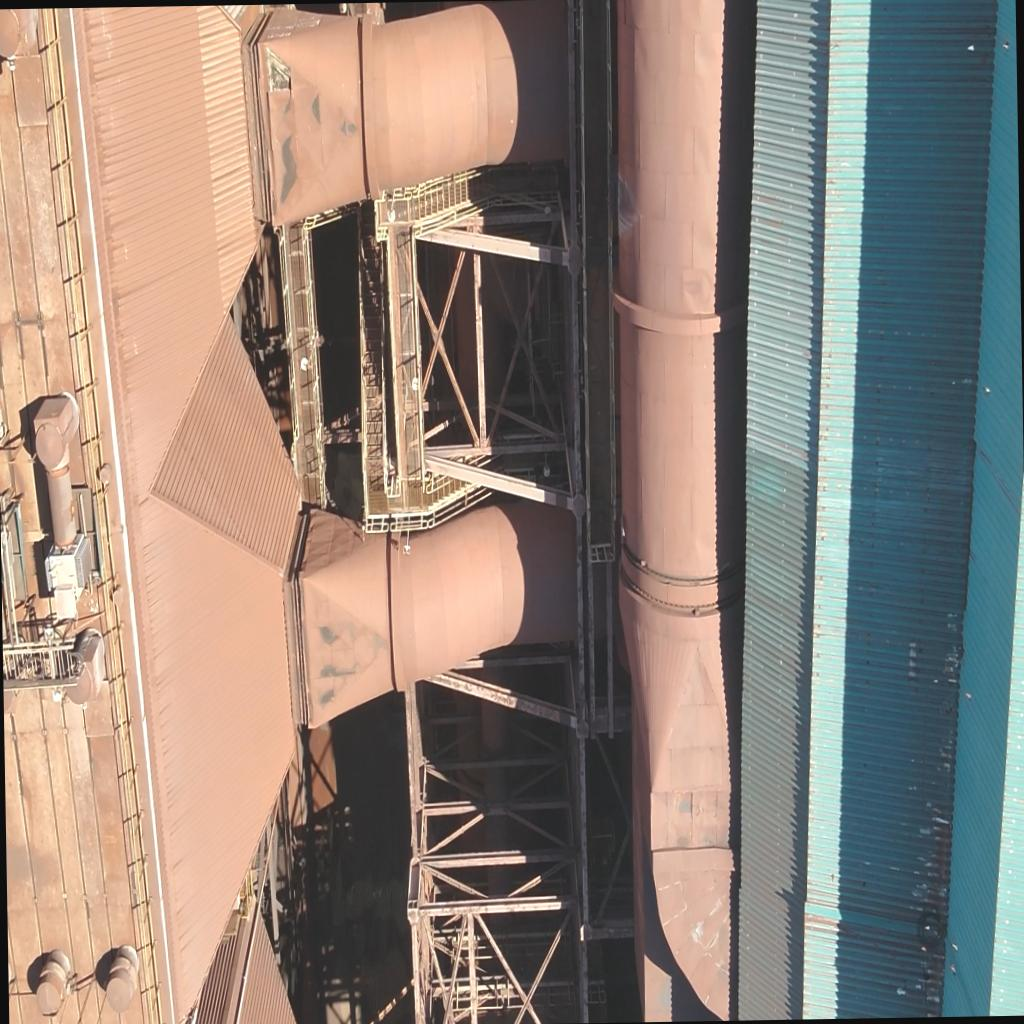Failures: (262, 44, 300, 98)
